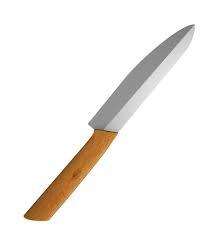Knife: (23, 23, 195, 221)
